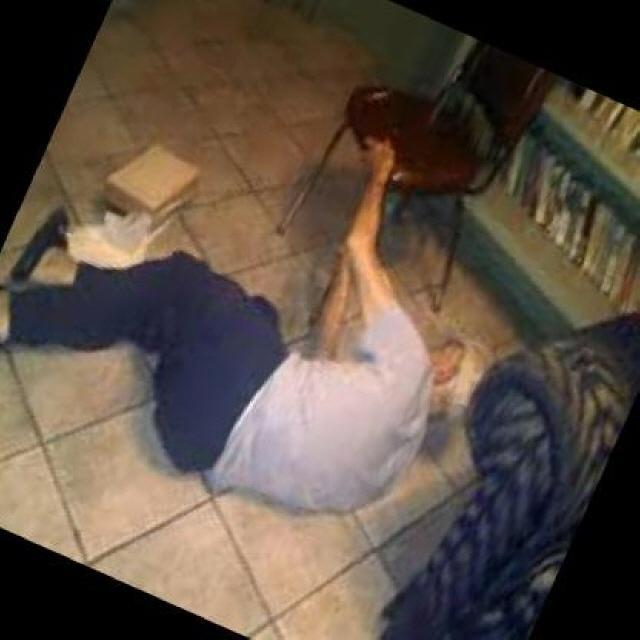Fall: (9, 143, 488, 512)
